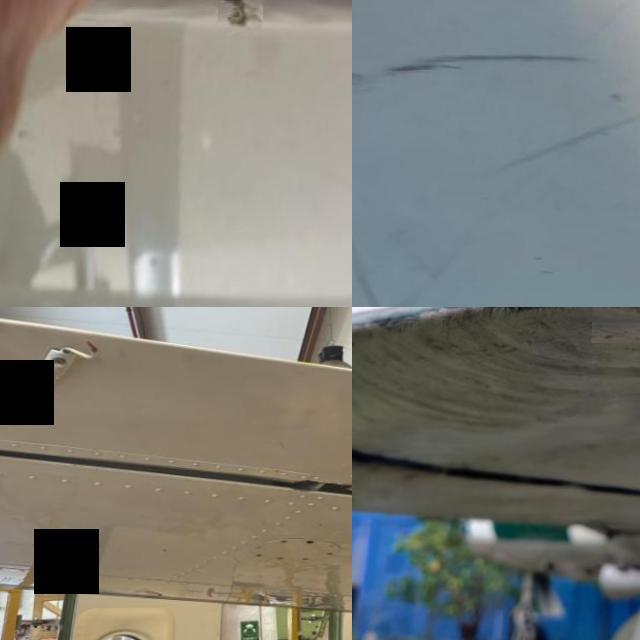Crack: (222, 0, 265, 32)
Missing_Fastener: (310, 540, 320, 546), (258, 554, 268, 558)
